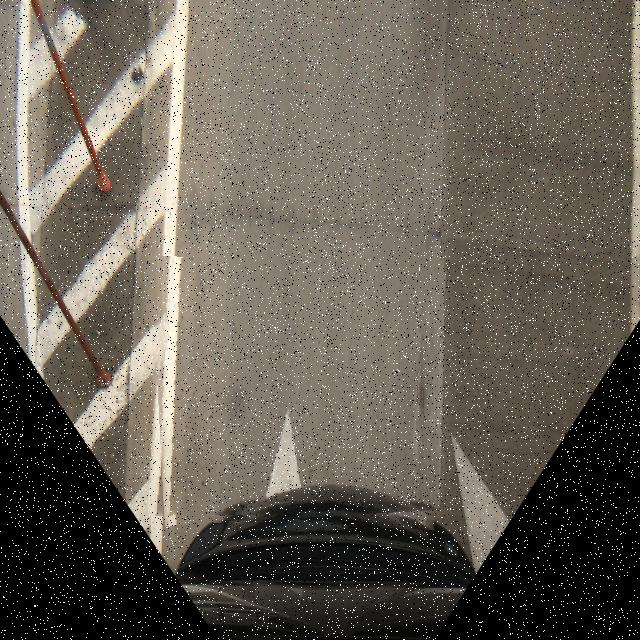forward: (151, 260, 444, 526)
